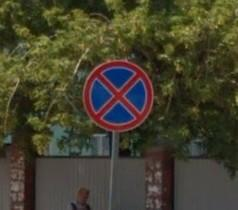No Parking: (84, 60, 155, 133)
